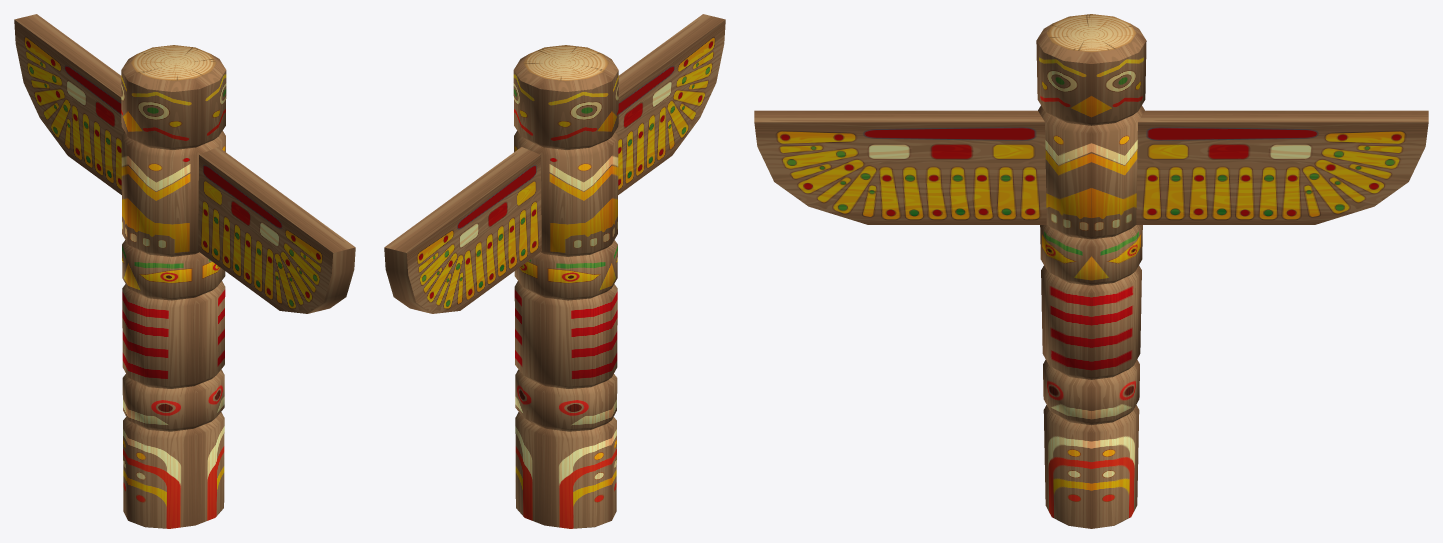
Rendered from Totem_01.FBX.
3 views of the same model, side by side, from view 1: azimuth 30°, elevation 25°; view 2: azimuth 150°, elevation 25°; view 3: azimuth 270°, elevation 25° (orthographic). The views are drawn at different scales.
Visible parts, largest first — view 1: Totem_01; view 2: Totem_01; view 3: Totem_01.
Boxes of the visible parts, <box> form: Totem_01: <box>14,14,355,528</box>; Totem_01: <box>384,14,725,528</box>; Totem_01: <box>754,14,1428,528</box>.
Bounding box in the file's own units: 1.19 × 5.56 × 7.2.
